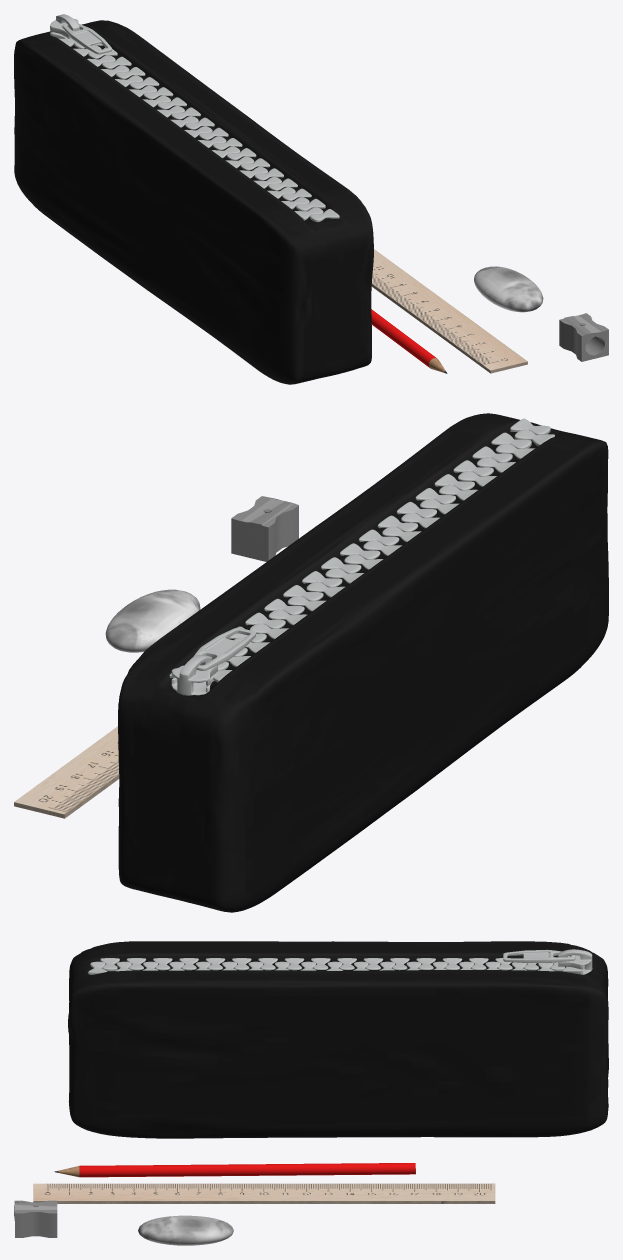
File: prop_pencil_set.glb
3 renders of one model, top to bottom at view 1: azimuth 30°, elevation 25°; view 2: azimuth 150°, elevation 25°; view 3: azimuth 270°, elevation 25°, orthographic. The views are drawn at different scales.
Parts seen in each view (by area): view 1: Clasp_0, Ruler_3, Eraser_2, pencil sharpener_4, pencil_1; view 2: Clasp_0, Ruler_3, Eraser_2, pencil sharpener_4; view 3: Clasp_0, Ruler_3, pencil_1, Eraser_2, pencil sharpener_4.
Part boxes in pixels (left/top/right/bottom): Clasp_0: left=14, top=14, right=373, bottom=384; Ruler_3: left=371, top=249, right=527, bottom=373; Eraser_2: left=474, top=266, right=543, bottom=312; pencil sharpener_4: left=559, top=313, right=608, bottom=361; pencil_1: left=371, top=309, right=447, bottom=373; Clasp_0: left=118, top=413, right=608, bottom=912; Ruler_3: left=14, top=726, right=119, bottom=818; Eraser_2: left=105, top=589, right=200, bottom=652; pencil sharpener_4: left=231, top=496, right=298, bottom=561; Clasp_0: left=68, top=941, right=608, bottom=1138; Ruler_3: left=33, top=1183, right=495, bottom=1203; pencil_1: left=54, top=1163, right=415, bottom=1177; Eraser_2: left=138, top=1215, right=233, bottom=1245; pencil sharpener_4: left=14, top=1200, right=57, bottom=1237.
Bounding box in the file's own units: 2.13 × 1.27 × 3.78.
Materials: 6 (5 with a texture image).
